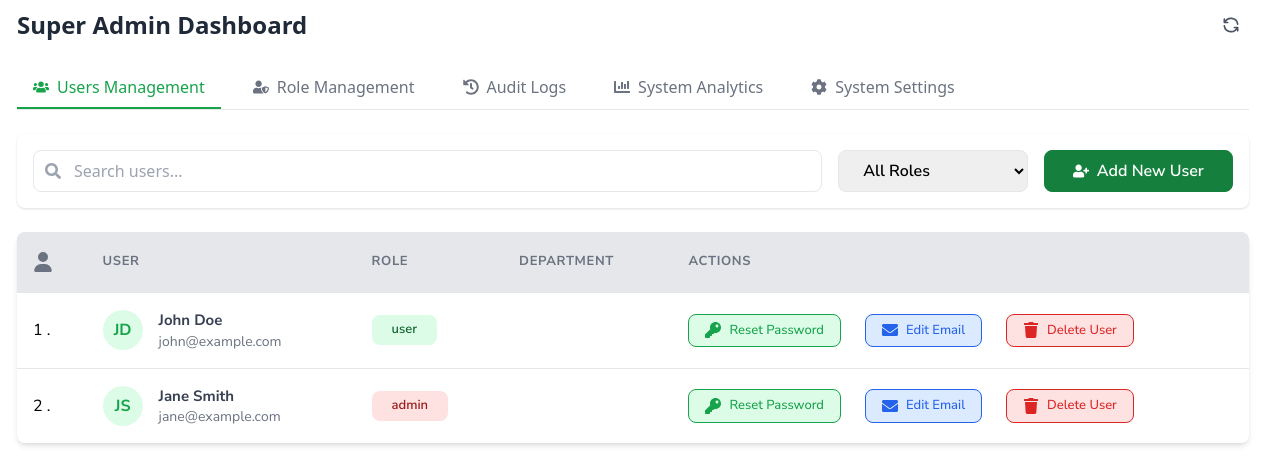
Scenario: SuperAdmin Component › handles user search
Type "John" into the field with placeholder "Search users..." at (428, 171), box [33,150,822,192]
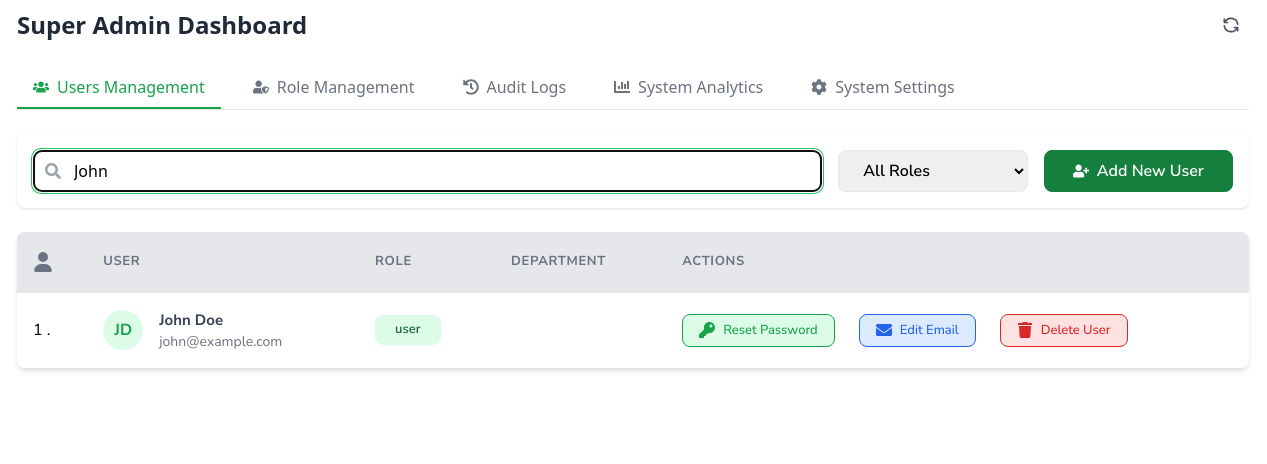
expect the text "John Doe" is shown: met, box [159,310,223,330]
expect the text "Jane Smith" is gone: met
